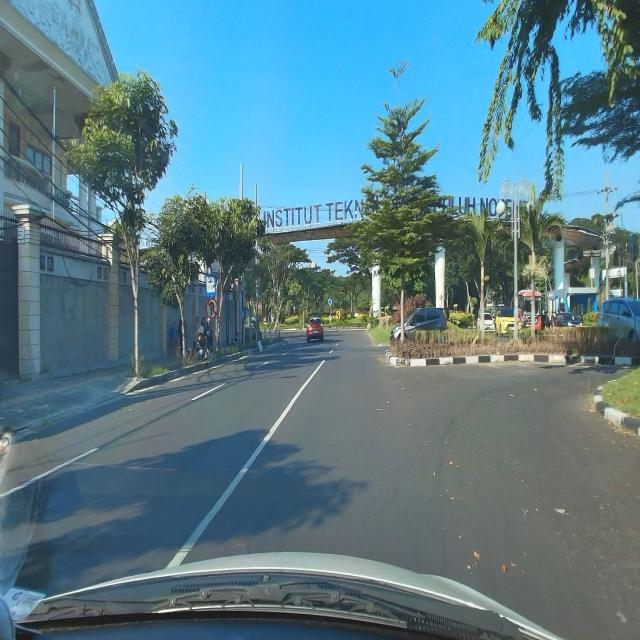car: (305, 316, 324, 344)
